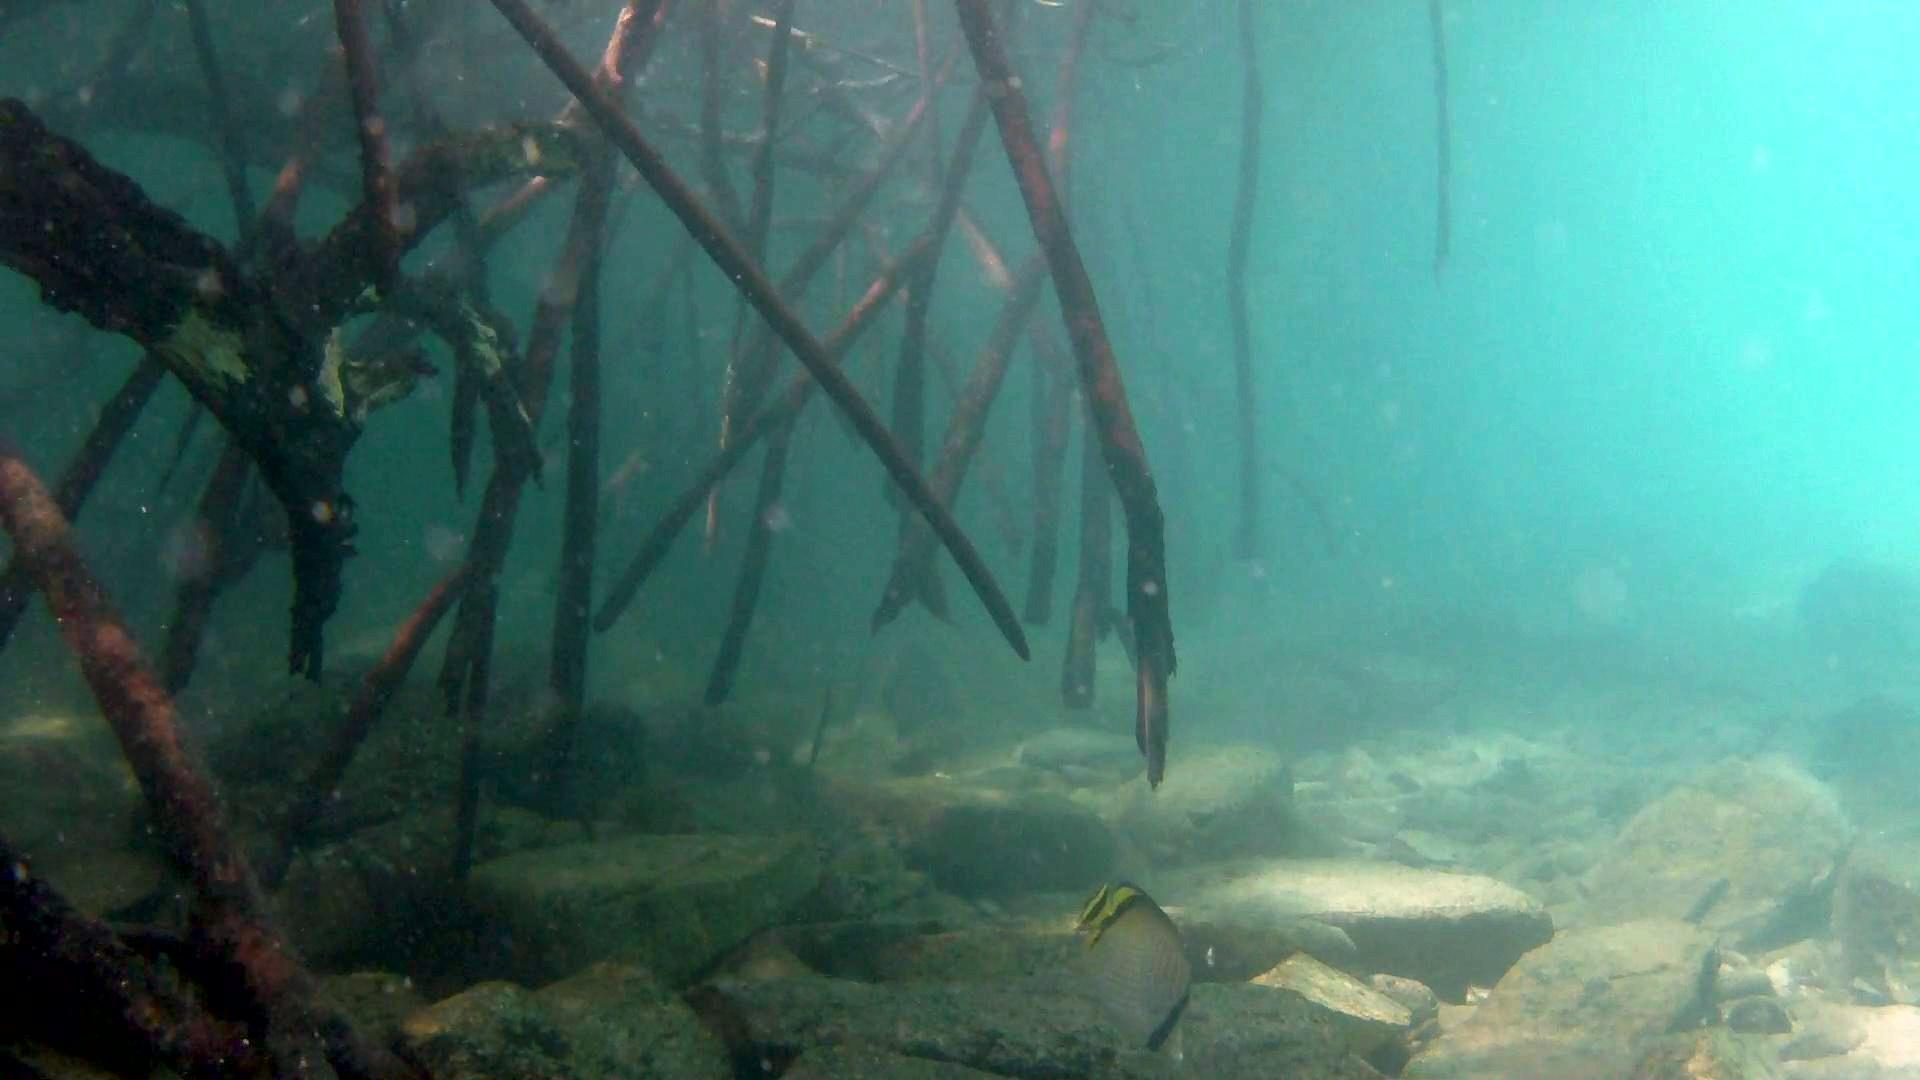chaetodon vagabundus: (1072, 878, 1195, 1065)
